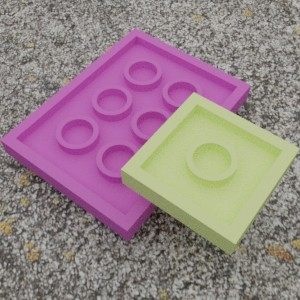lego: (0, 27, 251, 241), (120, 92, 299, 255)
